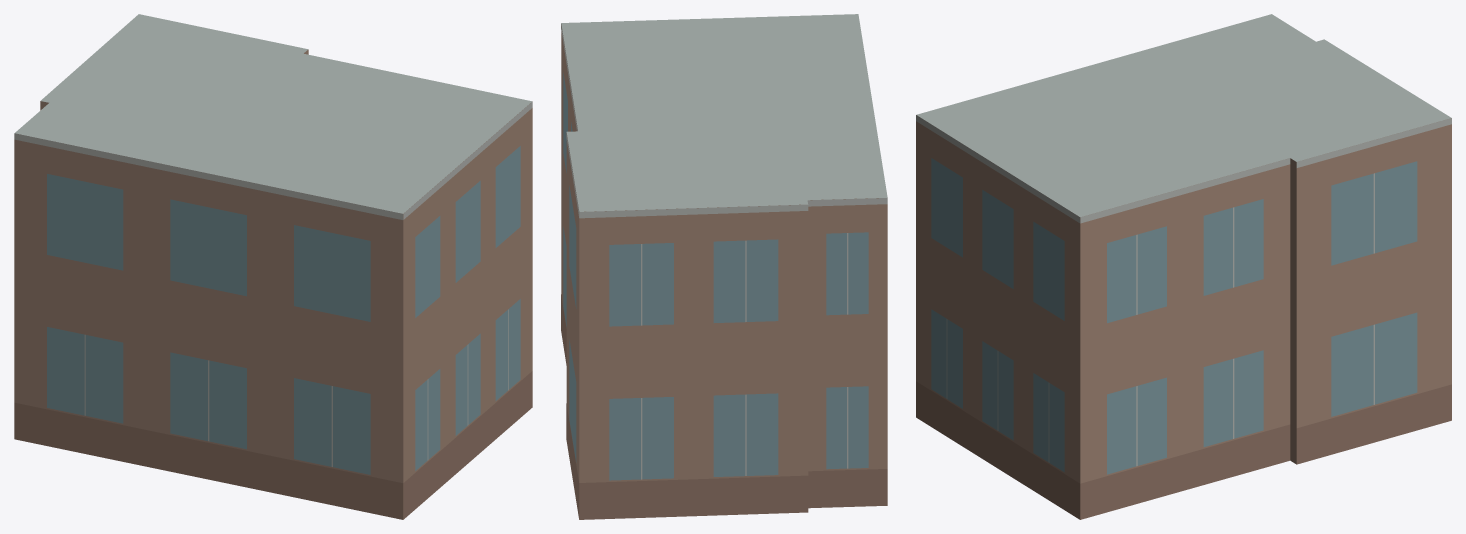
The model's file is survey-upis-32837352.glb.
3 views of the same model, side by side, from view 1: azimuth 30°, elevation 25°; view 2: azimuth 150°, elevation 25°; view 3: azimuth 270°, elevation 25° (orthographic).
Parts seen in each view (by area): view 1: survey-upis-32837352.tmp; view 2: survey-upis-32837352.tmp; view 3: survey-upis-32837352.tmp.
Boxes of the visible parts, x1,y1,x2,y2 form: survey-upis-32837352.tmp: [14, 14, 532, 519]; survey-upis-32837352.tmp: [561, 14, 887, 519]; survey-upis-32837352.tmp: [916, 14, 1451, 519].
Bounding box in the file's own units: 16.94 × 11.75 × 18.86.
